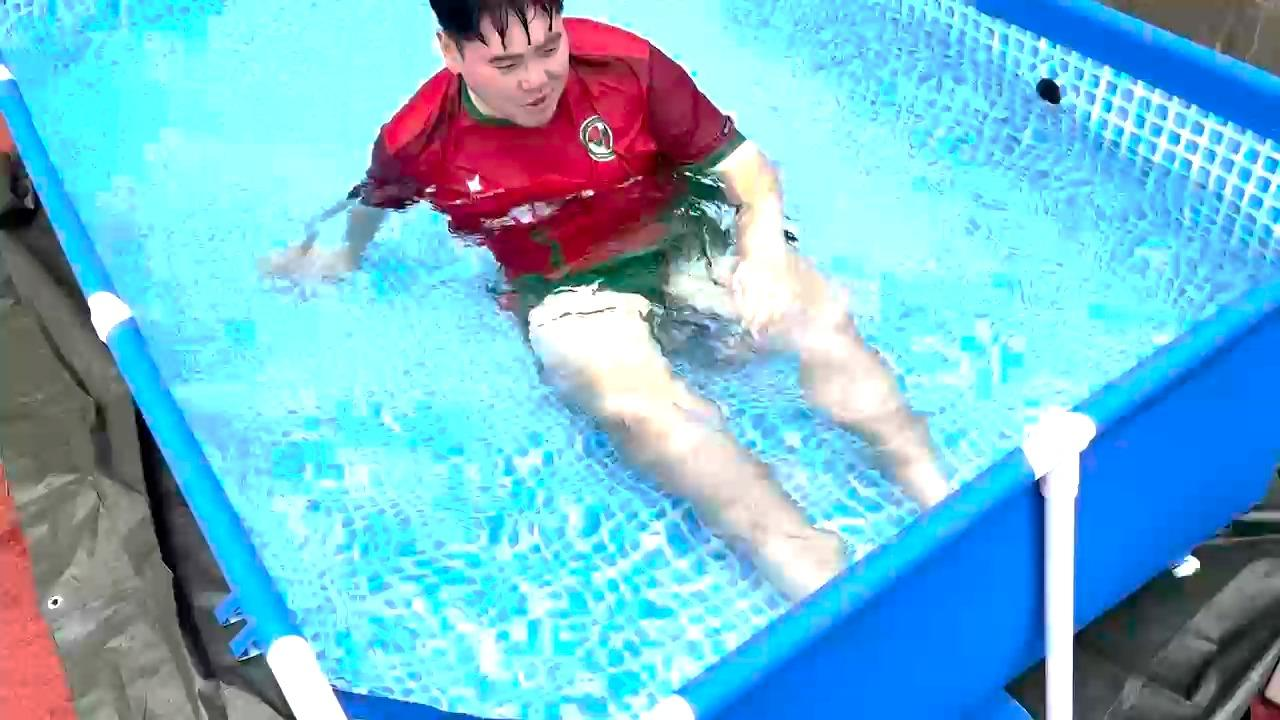Swimming: (260, 0, 964, 592)
